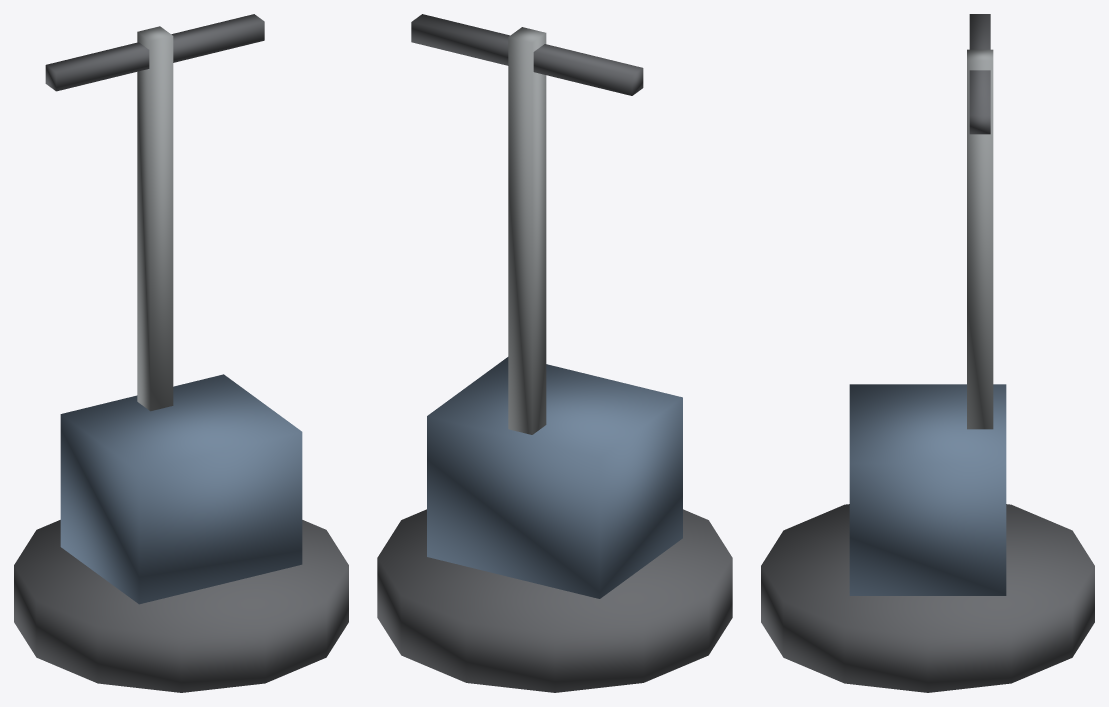
File: floor_buffer.glb
3 renders of one model, left to right at view 1: azimuth 30°, elevation 25°; view 2: azimuth 150°, elevation 25°; view 3: azimuth 270°, elevation 25°, orthographic. The views are drawn at different scales.
Parts seen in each view (by area): view 1: world; view 2: world; view 3: world.
Boxes of the visible parts, x1,y1,x2,y2 form: world: (14,14,348,692); world: (377,14,732,692); world: (761,14,1094,692).
Bounding box in the file's own units: 0.64 × 1.2 × 0.64.
